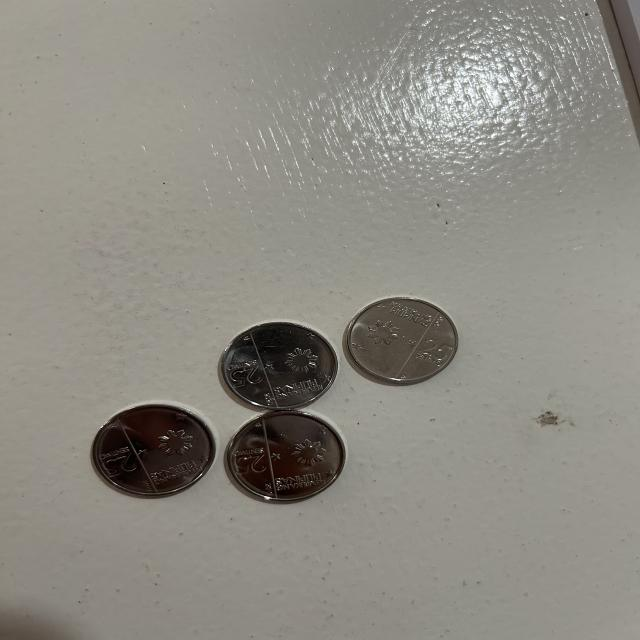25Cent_New_Front: (94, 445, 142, 482), (226, 446, 272, 482), (217, 359, 263, 391), (417, 332, 456, 367)
